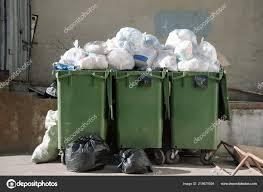trash: (142, 23, 223, 72), (105, 26, 164, 71), (52, 31, 108, 72), (64, 130, 112, 171), (36, 106, 59, 168), (114, 141, 152, 174)
trash_can_overflow: (42, 12, 113, 172), (107, 6, 172, 174), (167, 7, 231, 172)
